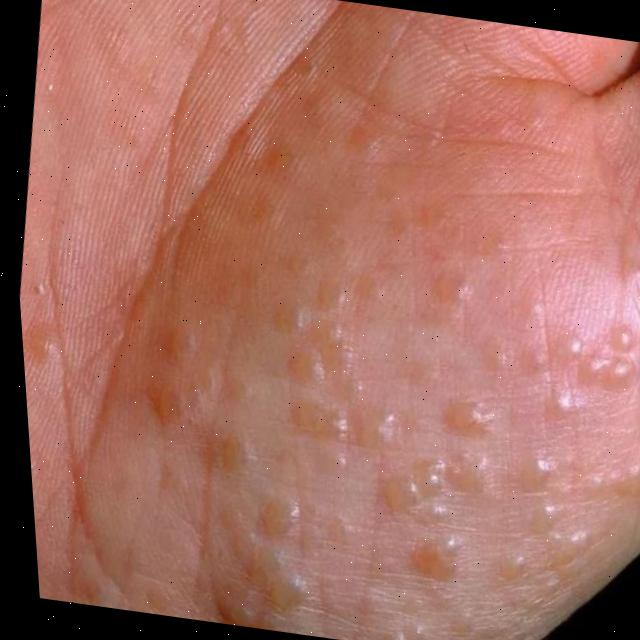Eczema: (7, 103, 640, 640)
